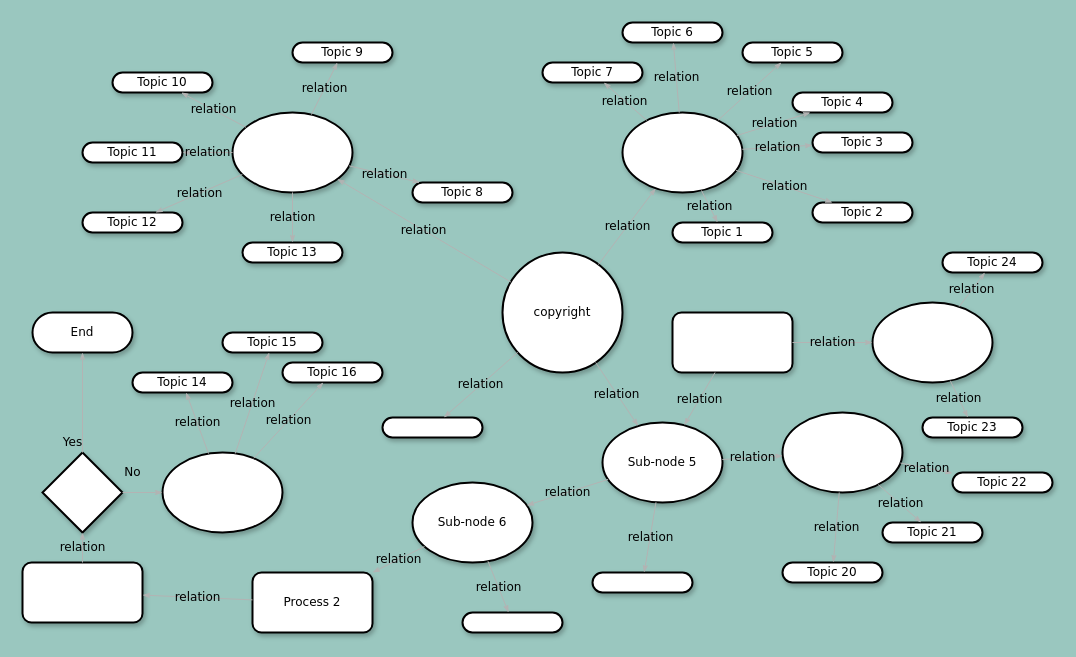
This 1076x657 diagram has some shape labels left out. The shapes that lost their labels are listed below. From the top down, each one's centre as x and y in pixels, then its label:
point 293,153: Sub-node 1
point 683,153: Sub-node 2
point 733,343: Process 1
point 933,343: Sub-node 3
point 433,428: Topic 17
point 843,453: Sub-node 4
point 83,493: Condition
point 223,493: Sub-node 7
point 83,593: Process 3
point 643,583: Topic 19
point 513,623: Topic 18
